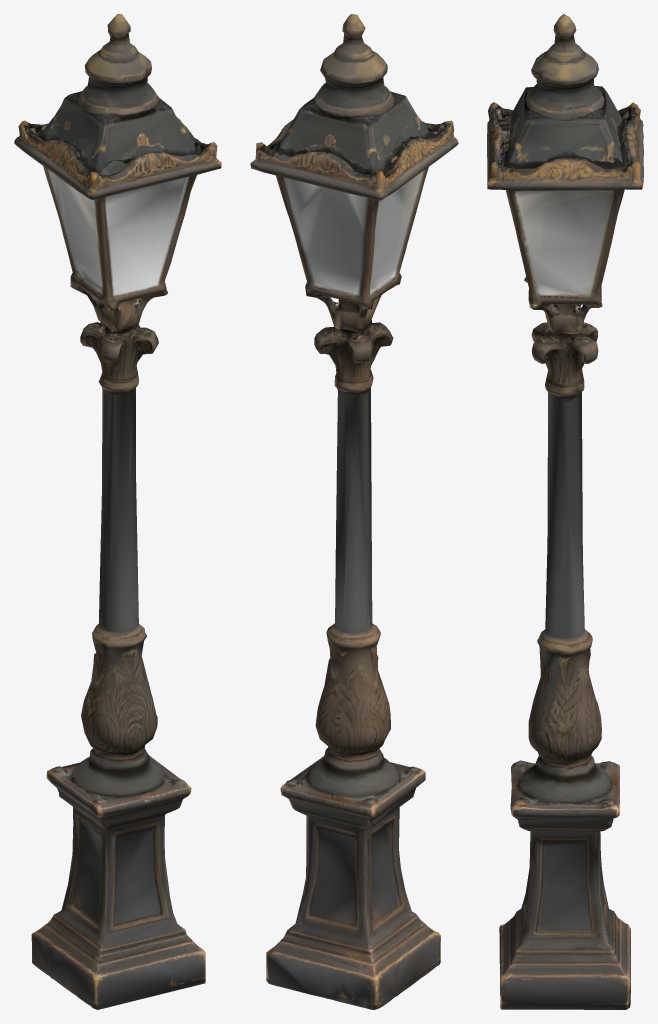
Rendered from lamp-elegance.glb.
3 renders of one model, left to right at view 1: azimuth 30°, elevation 25°; view 2: azimuth 150°, elevation 25°; view 3: azimuth 270°, elevation 25°, orthographic.
Parts seen in each view (by area): view 1: Mesh1.0; view 2: Mesh1.0; view 3: Mesh1.0.
Part boxes in pixels (<box>): Mesh1.0: <box>14,14,221,1009</box>; Mesh1.0: <box>250,14,458,1009</box>; Mesh1.0: <box>487,14,643,1009</box>.
Size of the model in its own units: 0.2774 by 1.91 by 0.2808.
Materials: 1 (1 with a texture image).
